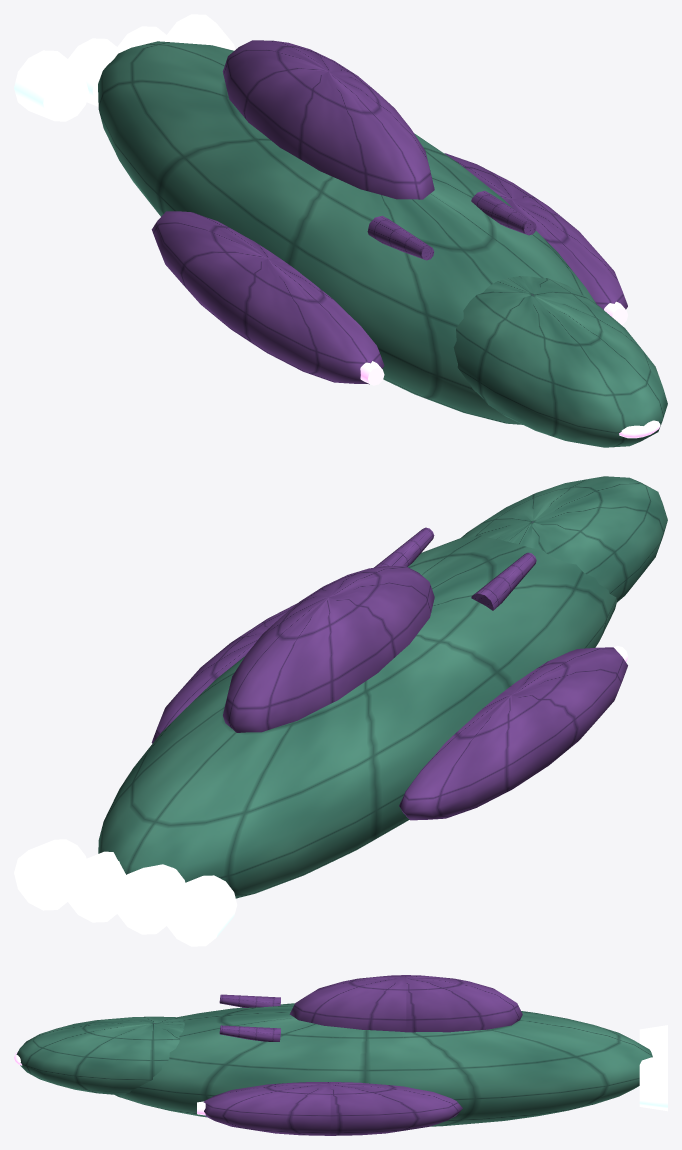
The model's file is thuverl_salan.glb.
3 renders of one model, top to bottom at view 1: azimuth 30°, elevation 25°; view 2: azimuth 150°, elevation 25°; view 3: azimuth 270°, elevation 25°, orthographic. The views are drawn at different scales.
Parts seen in each view (by area): view 1: thuverl_salan_root; view 2: thuverl_salan_root; view 3: thuverl_salan_root.
Part boxes in pixels (bbox=[...]): thuverl_salan_root: bbox=[14, 14, 667, 447]; thuverl_salan_root: bbox=[14, 476, 667, 946]; thuverl_salan_root: bbox=[14, 975, 667, 1135].
Size of the model in its own units: 38 by 24.4 by 104.
3 materials, 1 textured.
